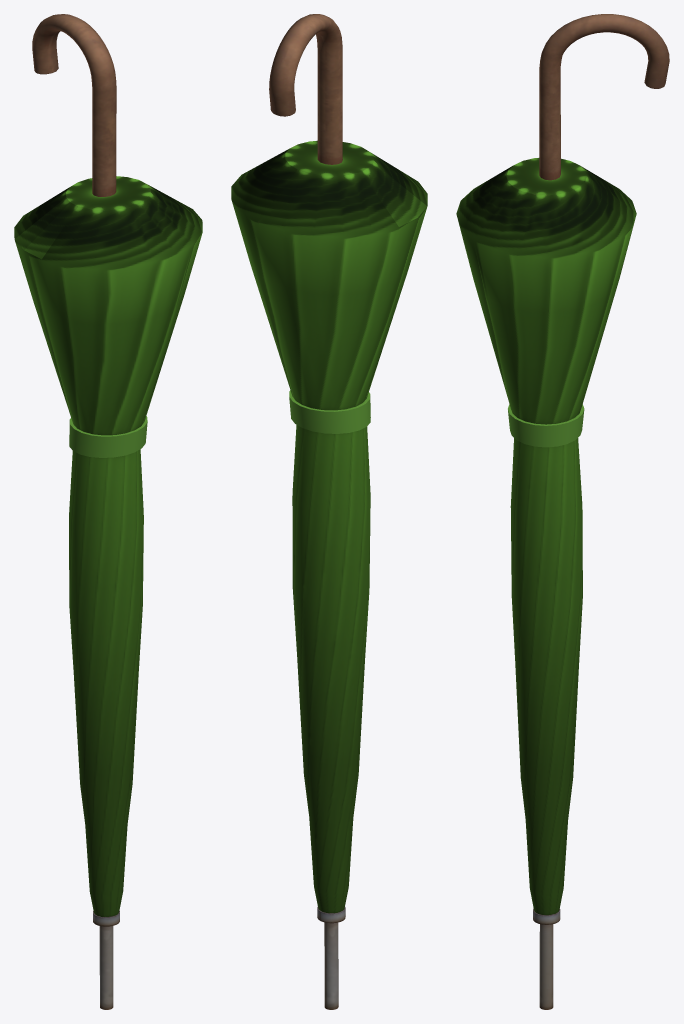
Rendered from SM_Umbrella.fbx.
3 views of the same model, side by side, from view 1: azimuth 30°, elevation 25°; view 2: azimuth 150°, elevation 25°; view 3: azimuth 270°, elevation 25° (orthographic). The views are drawn at different scales.
Parts seen in each view (by area): view 1: SM_Umbrella_LOD0; view 2: SM_Umbrella_LOD0; view 3: SM_Umbrella_LOD0.
Part boxes in pixels (<box>): SM_Umbrella_LOD0: <box>14,14,202,1009</box>; SM_Umbrella_LOD0: <box>231,14,427,1009</box>; SM_Umbrella_LOD0: <box>456,14,669,1009</box>.
Size of the model in its own units: 18.93 by 20.25 by 104.
Materials: 1 (1 with a texture image).
